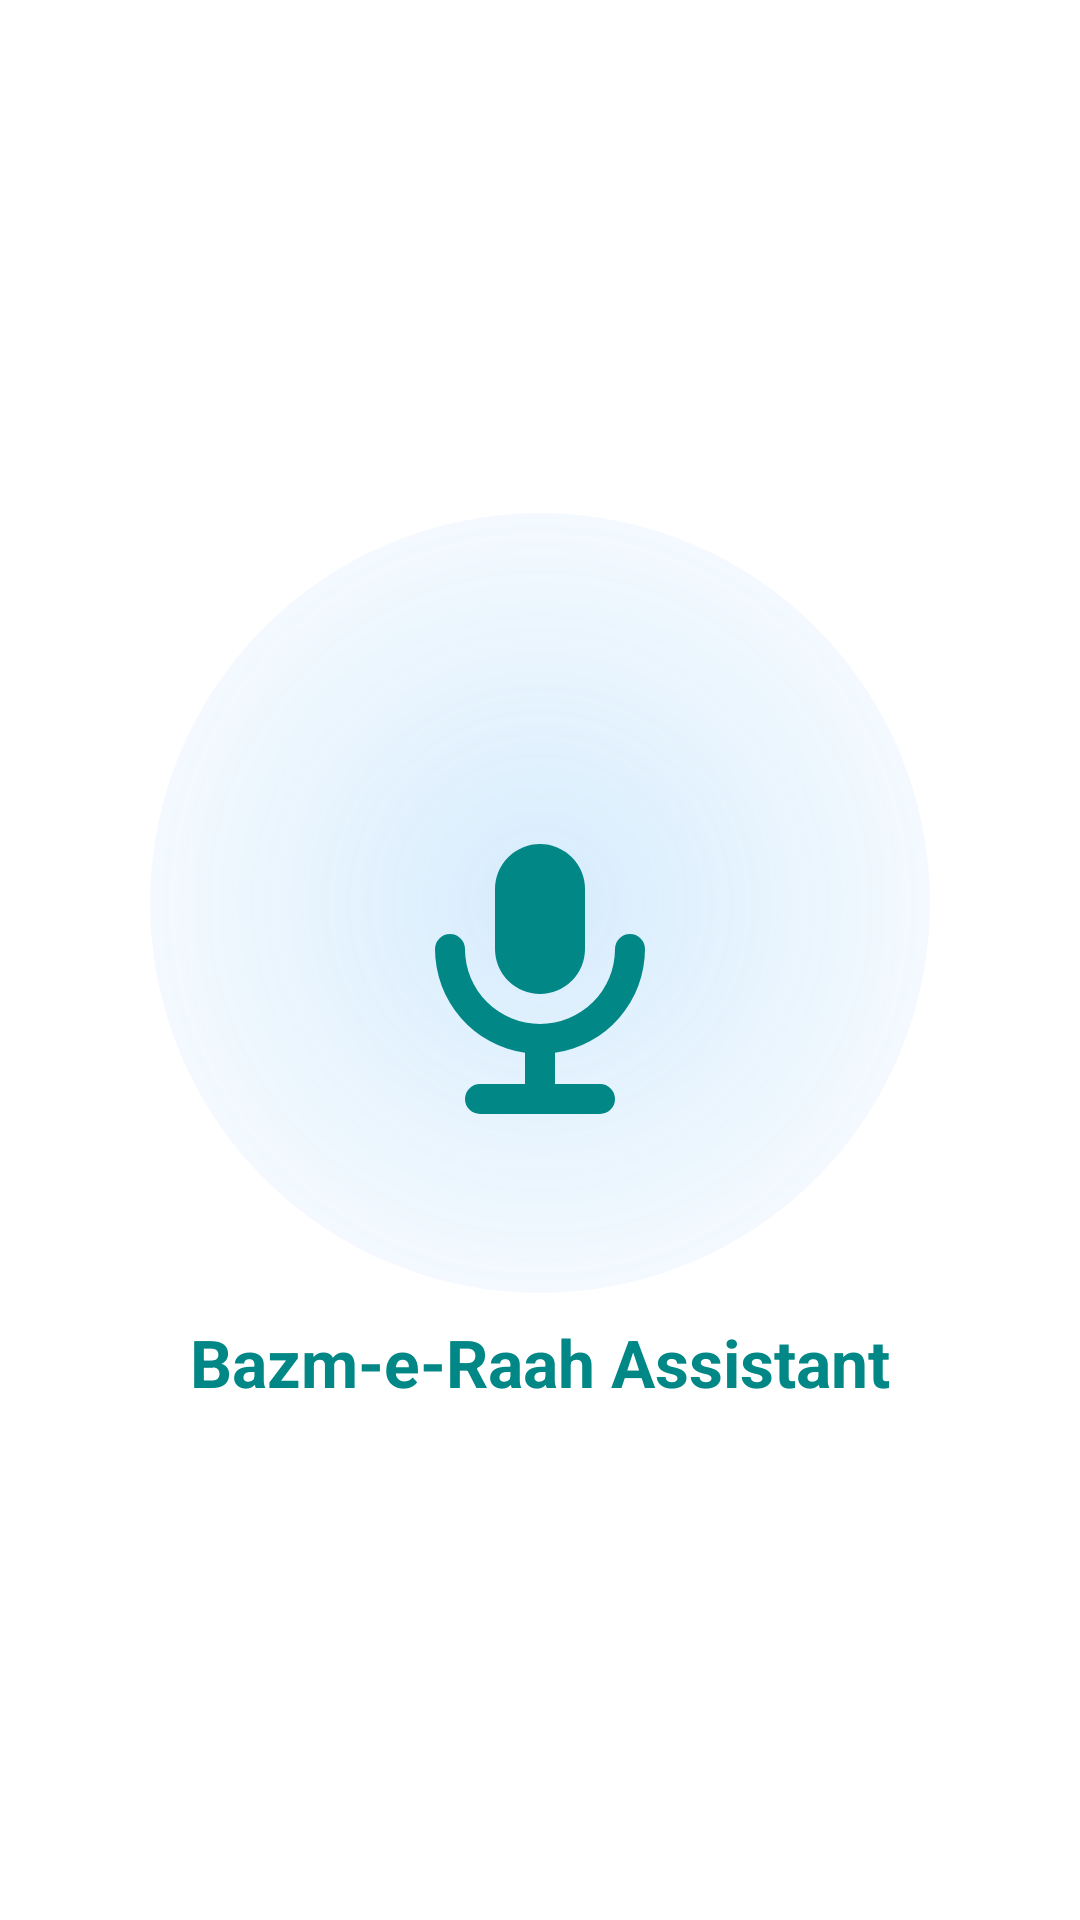

Locate icon controls on the screen. Image size 1080×1920, boxes as {"x1": x1, "y1": y1, "x2": x2, "y2": y2}.
mic: {"x1": 435, "y1": 844, "x2": 645, "y2": 1114}
